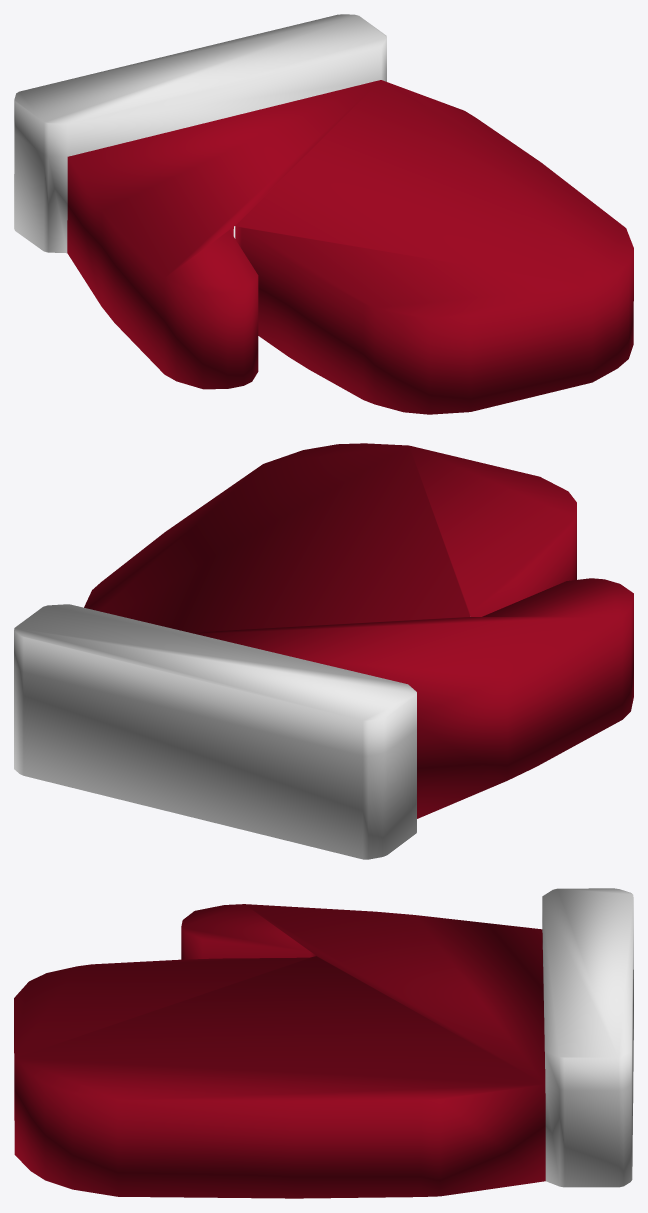
File: prev.glb
3 renders of one model, top to bottom at view 1: azimuth 30°, elevation 25°; view 2: azimuth 150°, elevation 25°; view 3: azimuth 270°, elevation 25°, orthographic. The views are drawn at different scales.
Parts seen in each view (by area): view 1: Circle.006; view 2: Circle.006; view 3: Circle.006.
Boxes of the visible parts, bbox=[...] form: Circle.006: bbox=[14, 14, 633, 414]; Circle.006: bbox=[14, 443, 633, 859]; Circle.006: bbox=[14, 888, 633, 1198].
Size of the model in its own units: 0.9229 by 0.2855 by 1.23.
